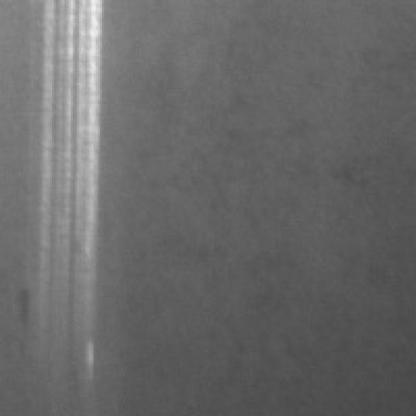scratches: (35, 0, 102, 374)
